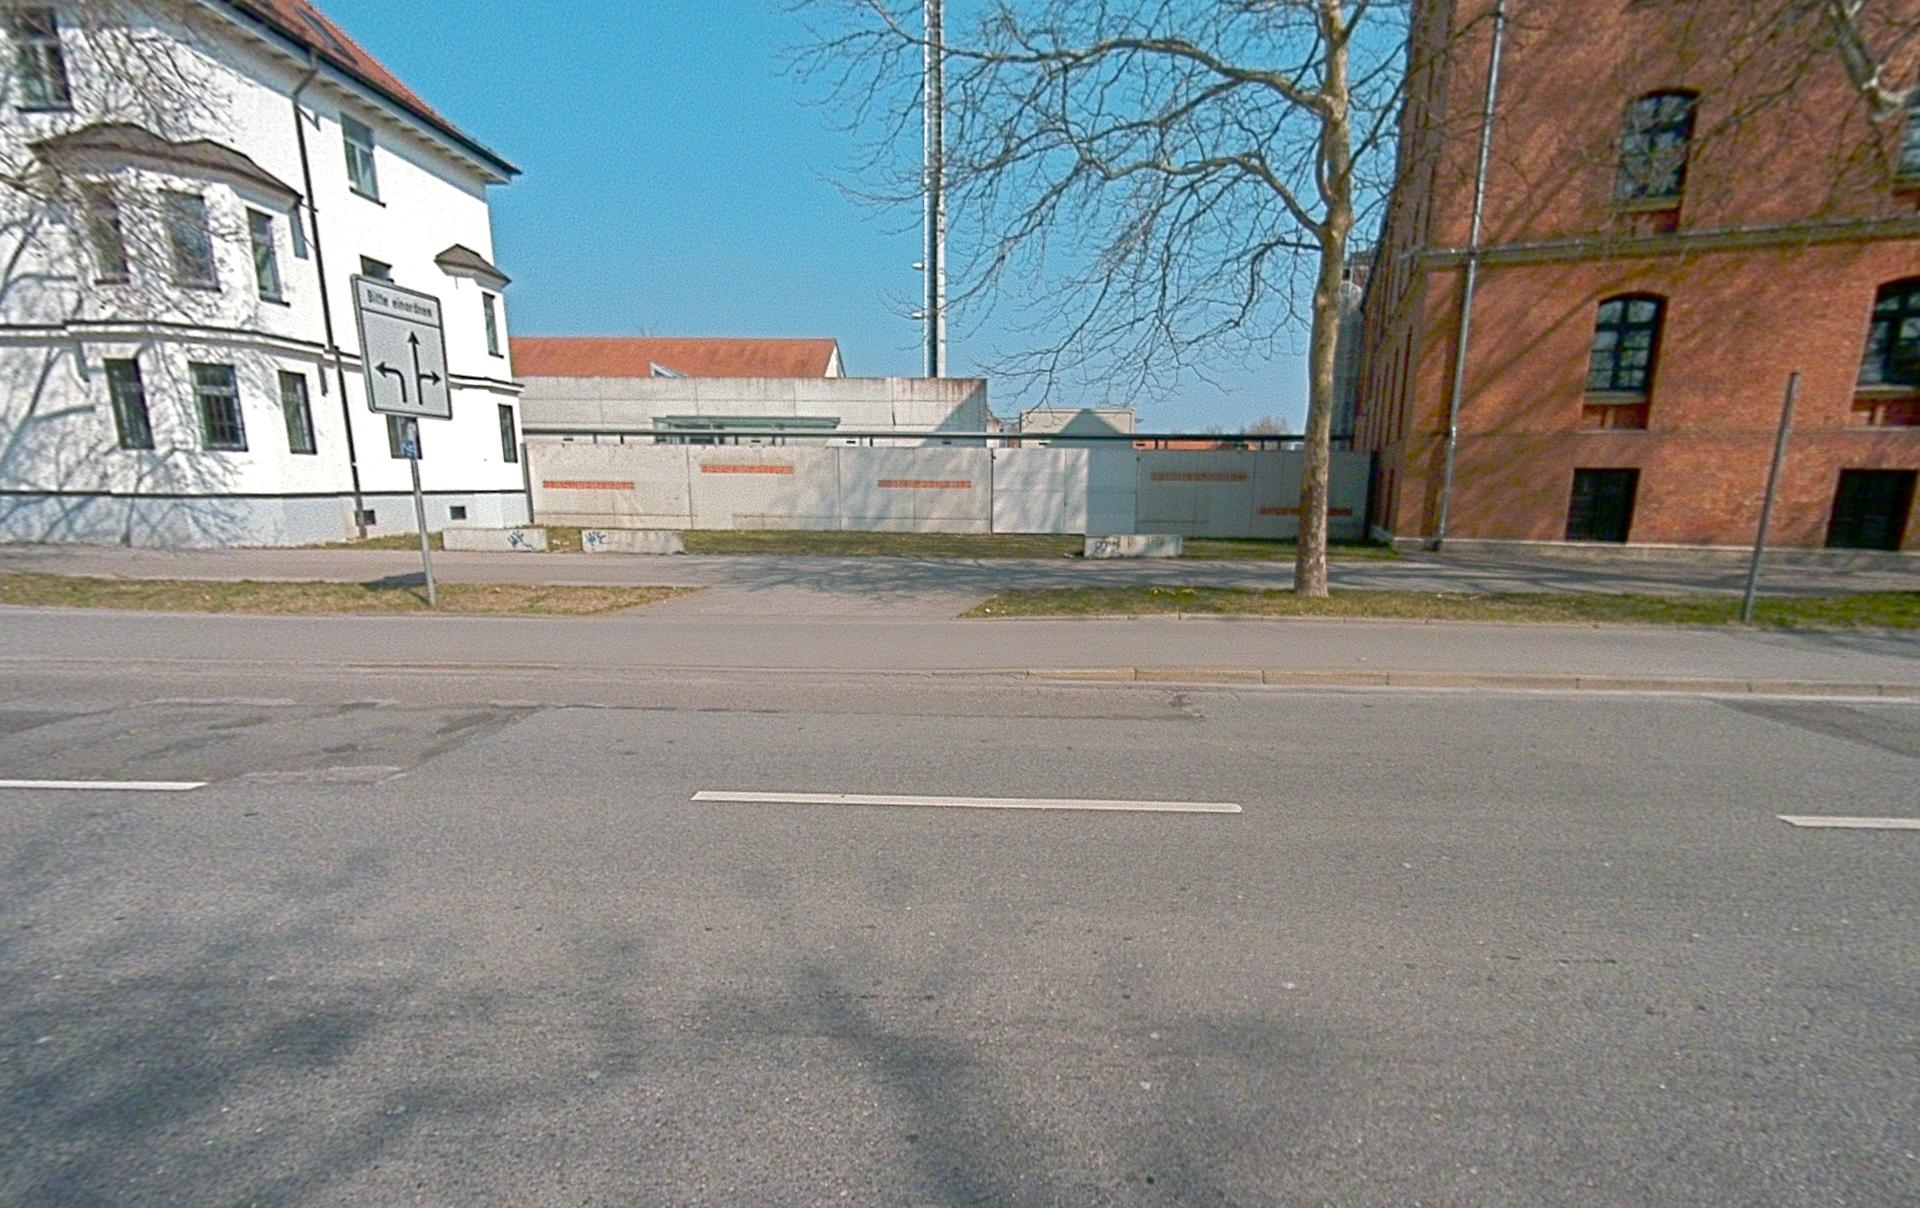traffic sign: (349, 273, 452, 420)
